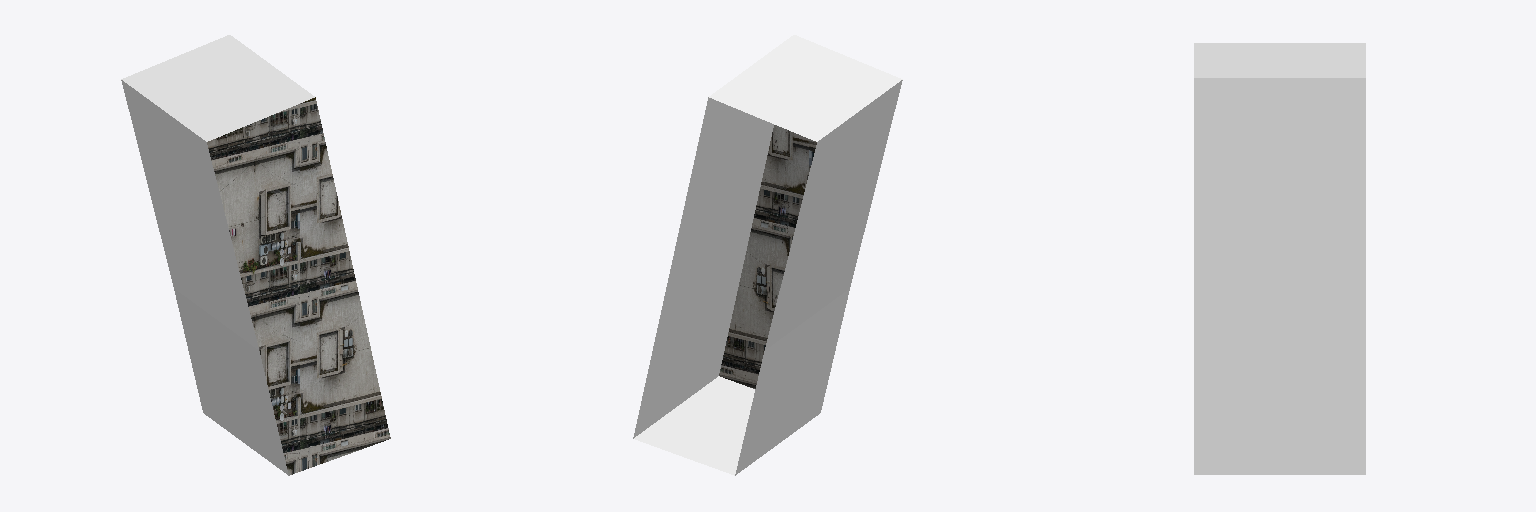
The picture shows the model from 3 angles: view 1: azimuth 30°, elevation 25°; view 2: azimuth 150°, elevation 25°; view 3: azimuth 270°, elevation 25°; orthographic projection.
Visible parts, largest first — view 1: Building; view 2: Building; view 3: Building.
Boxes of the visible parts, <box> form: Building: <box>121,35,390,475</box>; Building: <box>633,35,902,475</box>; Building: <box>1194,43,1365,474</box>.
Bounding box in the file's own units: 7.44 × 14.37 × 6.
2 materials, 1 textured.